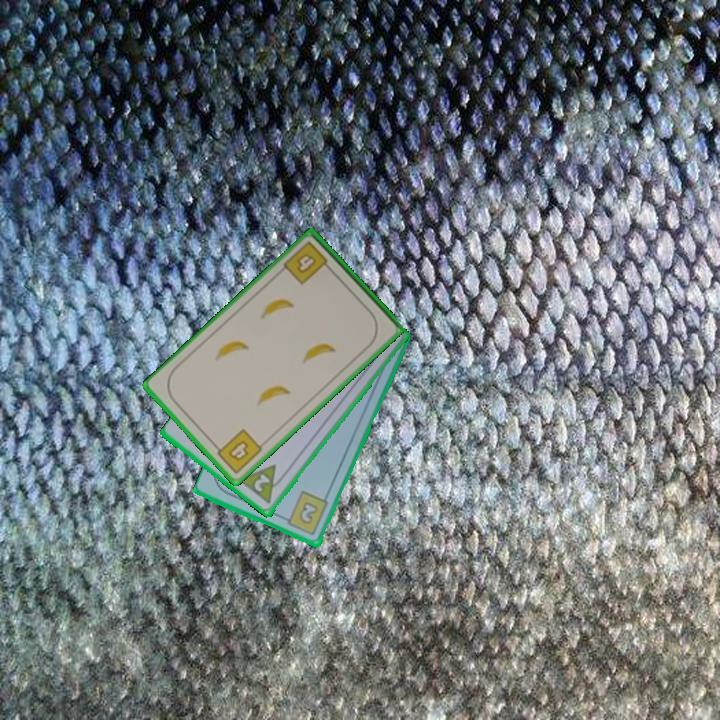2b: (279, 488, 331, 539)
2p: (250, 471, 274, 496)
4b: (210, 426, 265, 477), (280, 238, 335, 288)
